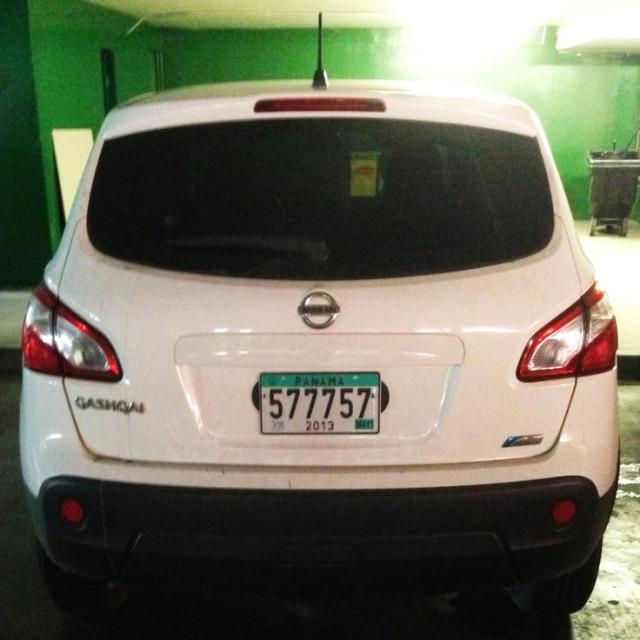Placas: (260, 371, 382, 435)
